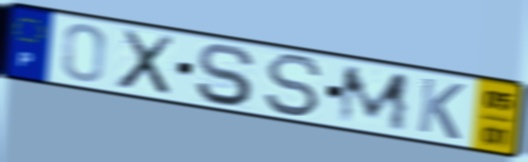0: (60, 21, 108, 84)
K: (414, 75, 468, 143)
M: (335, 64, 412, 134)
S: (192, 42, 258, 109), (262, 51, 326, 120)
X: (113, 27, 178, 98)
